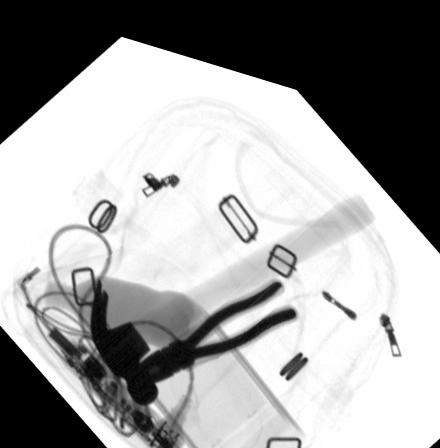Hammer: (89, 169, 376, 397)
Pliers: (130, 258, 298, 376)
